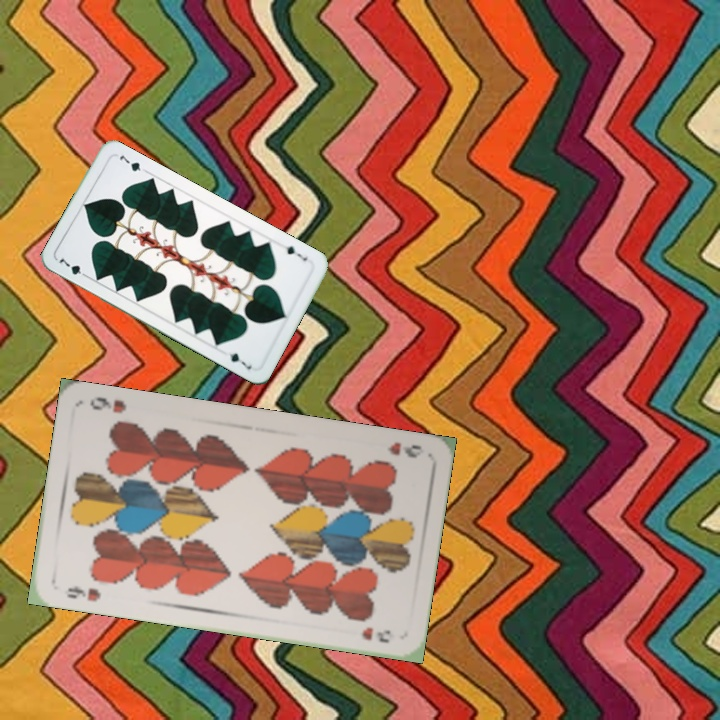G7: (55, 254, 92, 281), (282, 242, 310, 263)
H9: (384, 438, 426, 461), (63, 581, 103, 605)
